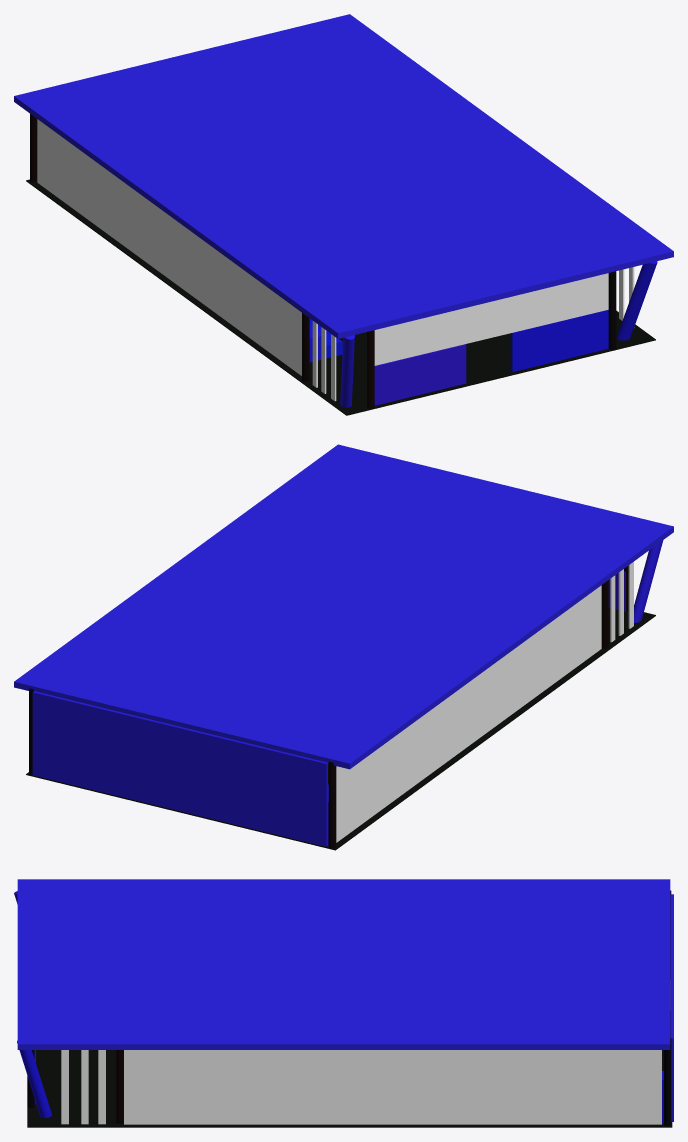
The picture shows the model from 3 angles, top to bottom: view 1: azimuth 30°, elevation 25°; view 2: azimuth 150°, elevation 25°; view 3: azimuth 270°, elevation 25°; orthographic projection.
Visible parts, largest first — view 1: Cube.001, Cube.004, Cube.005, Cube, Cube.007, Cube.006, Cylinder.005, Cylinder.004, Cylinder.007, Cylinder.006; view 2: Cube.001, Cube.002, Cube.004, Cube, Cylinder.004, Cylinder; view 3: Cube.001, Cube.003, Cube, Cylinder.005, Cube.002, Cylinder.001, Cube.011, Cube.012, Cube.013, Cylinder.003.
Part boxes in pixels (x1,y1,x2,y2): Cube.001: (14, 14, 673, 338); Cube.004: (37, 119, 301, 375); Cube.005: (374, 273, 608, 365); Cube: (26, 179, 655, 415); Cube.007: (510, 310, 608, 371); Cube.006: (374, 344, 466, 405); Cylinder.005: (616, 261, 657, 340); Cylinder.004: (340, 335, 354, 407); Cylinder.007: (608, 271, 616, 349); Cylinder.006: (367, 330, 374, 408); Cube.001: (14, 444, 673, 769); Cube.002: (32, 691, 327, 846); Cube.004: (336, 585, 601, 842); Cube: (26, 608, 655, 850); Cylinder.004: (634, 540, 663, 622); Cylinder: (328, 761, 336, 848); Cube.001: (17, 879, 670, 1049); Cube.003: (124, 1050, 661, 1124); Cube: (27, 979, 672, 1127); Cylinder.005: (17, 1040, 51, 1117); Cube.002: (670, 894, 673, 1121); Cylinder.001: (664, 1037, 671, 1126); Cube.011: (61, 1050, 68, 1124); Cube.012: (81, 1050, 88, 1124); Cube.013: (98, 1050, 105, 1124); Cylinder.003: (116, 1050, 123, 1123).
Bounding box in the file's own units: 38.33 × 10.17 × 64.79.
